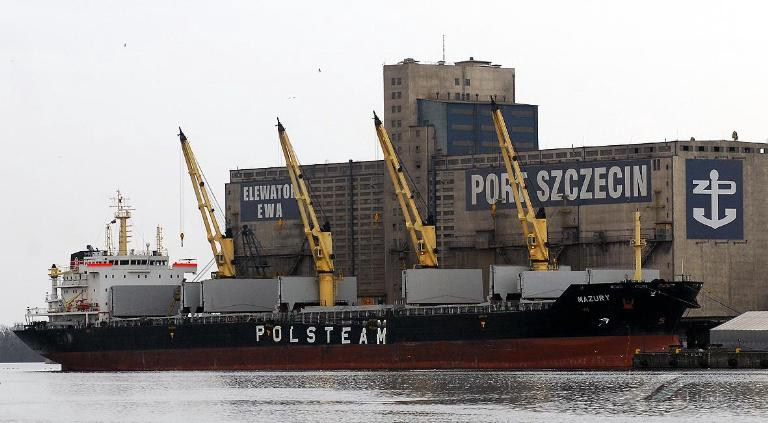OCR: (244, 314, 395, 344)
